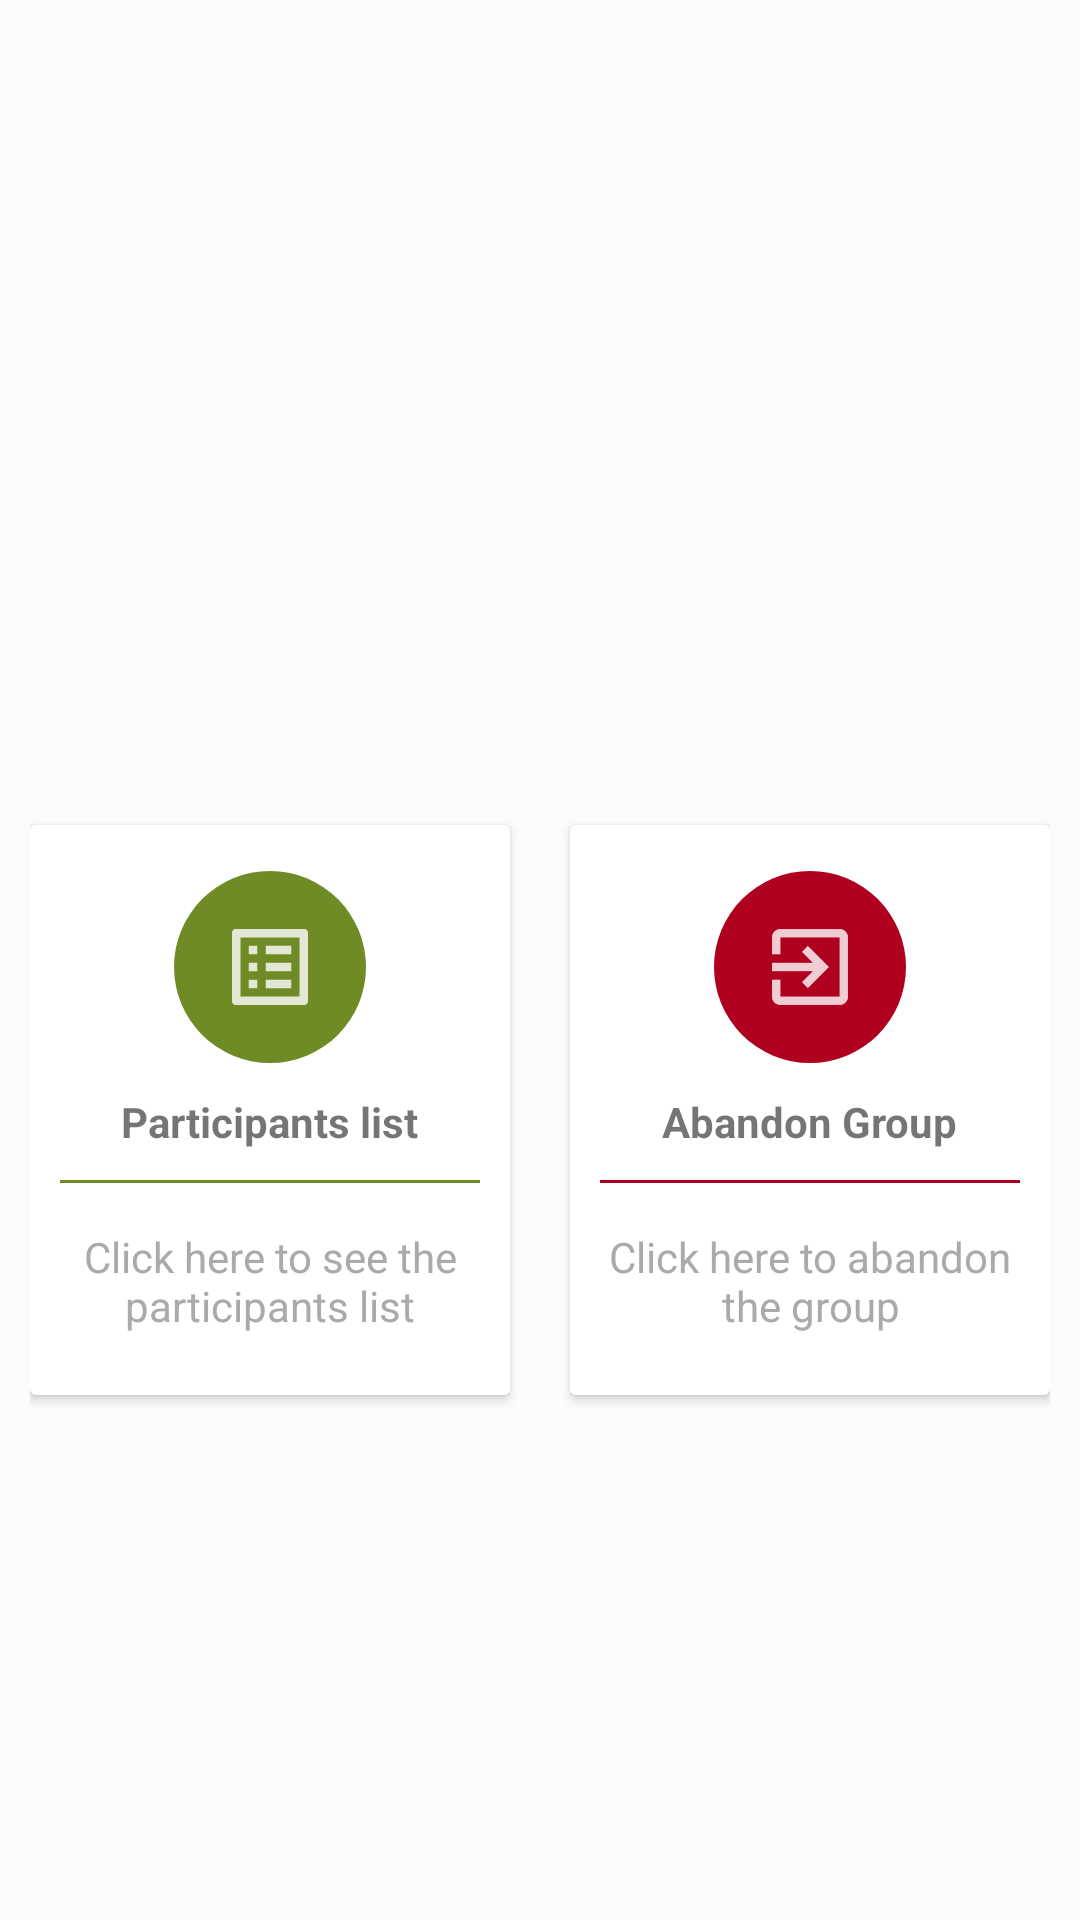

Screen size 1080px×1920px. Icon name, then its center in pixels as point (x, y):
exit: point (810, 967)
